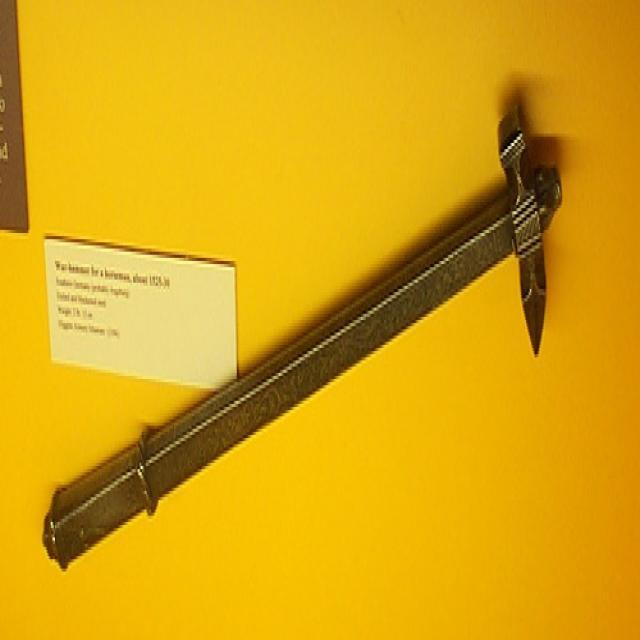hammer: (39, 84, 568, 584)
